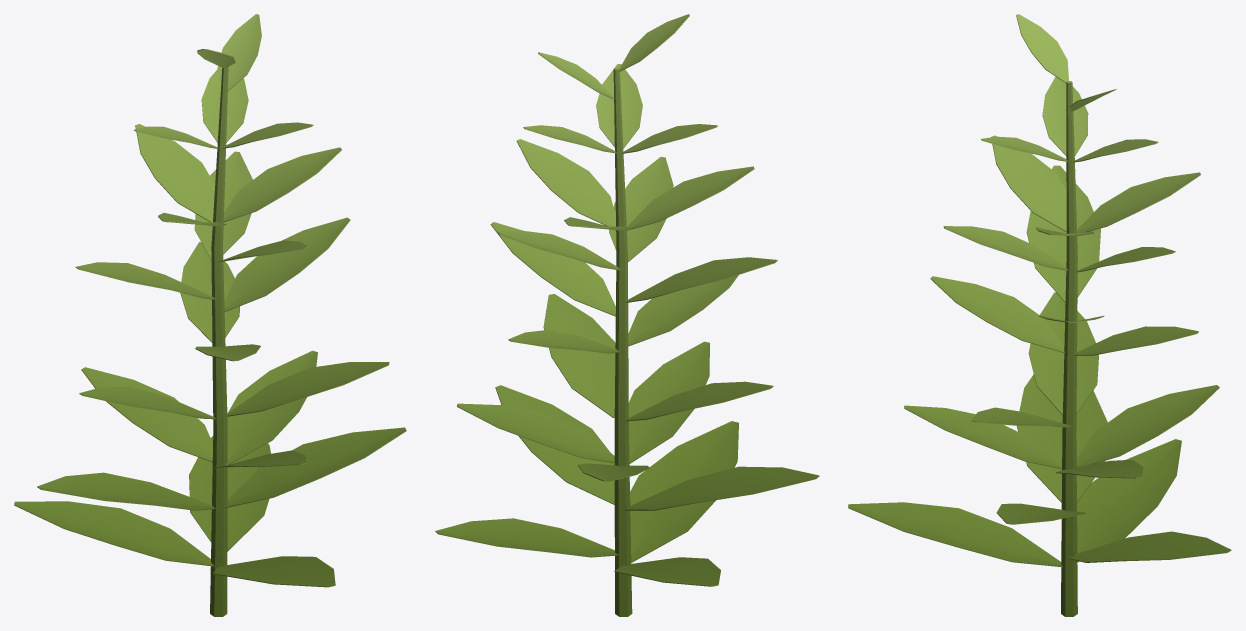
The model's file is Plant_05.glb.
3 renders of one model, left to right at view 1: azimuth 30°, elevation 25°; view 2: azimuth 150°, elevation 25°; view 3: azimuth 270°, elevation 25°, orthographic. The views are drawn at different scales.
Parts seen in each view (by area): view 1: Plant_05_LOD0; view 2: Plant_05_LOD0; view 3: Plant_05_LOD0.
Boxes of the visible parts, bbox=[...] form: Plant_05_LOD0: bbox=[14, 14, 406, 616]; Plant_05_LOD0: bbox=[435, 14, 819, 616]; Plant_05_LOD0: bbox=[848, 14, 1231, 616].
Size of what is drawn, in the model's own units: 0.4477 by 0.7347 by 0.4397.
Materials: 1 (1 with a texture image).
